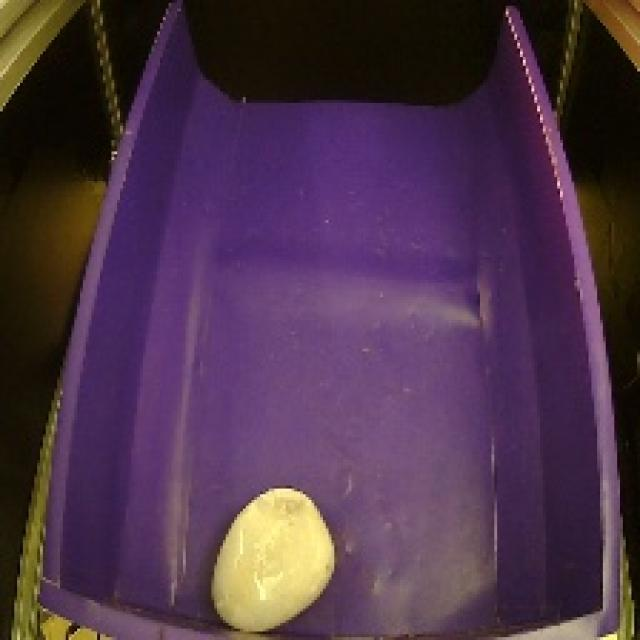cobbles: (202, 483, 342, 639)
